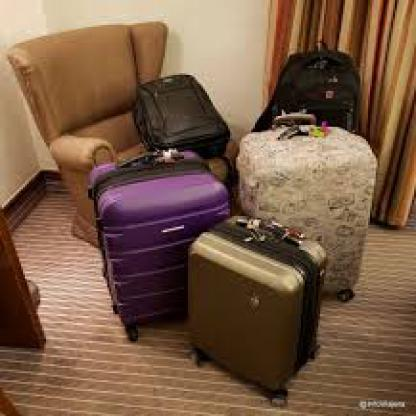maleta: (74, 154, 240, 356), (184, 209, 347, 411), (230, 122, 378, 306)
morral: (263, 36, 372, 145), (126, 73, 238, 161)
